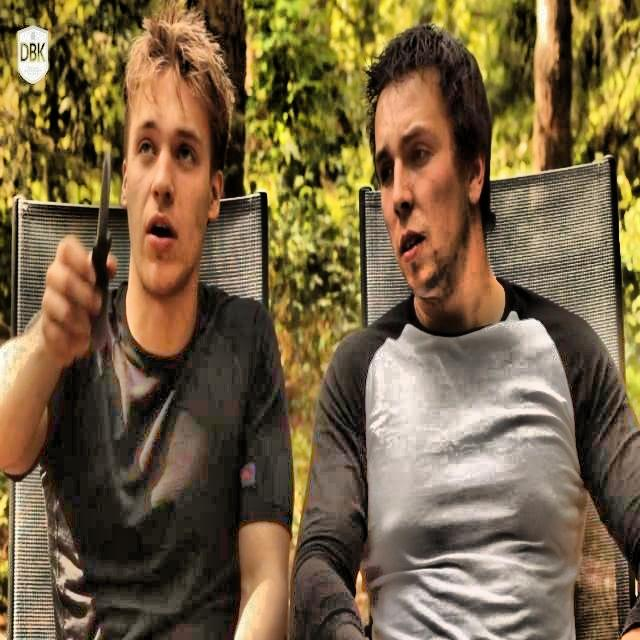knife: (95, 146, 112, 332)
